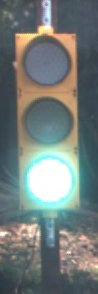Green: (4, 25, 80, 228)
